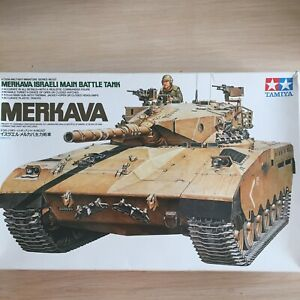Battle Tank: (2, 91, 295, 267)
